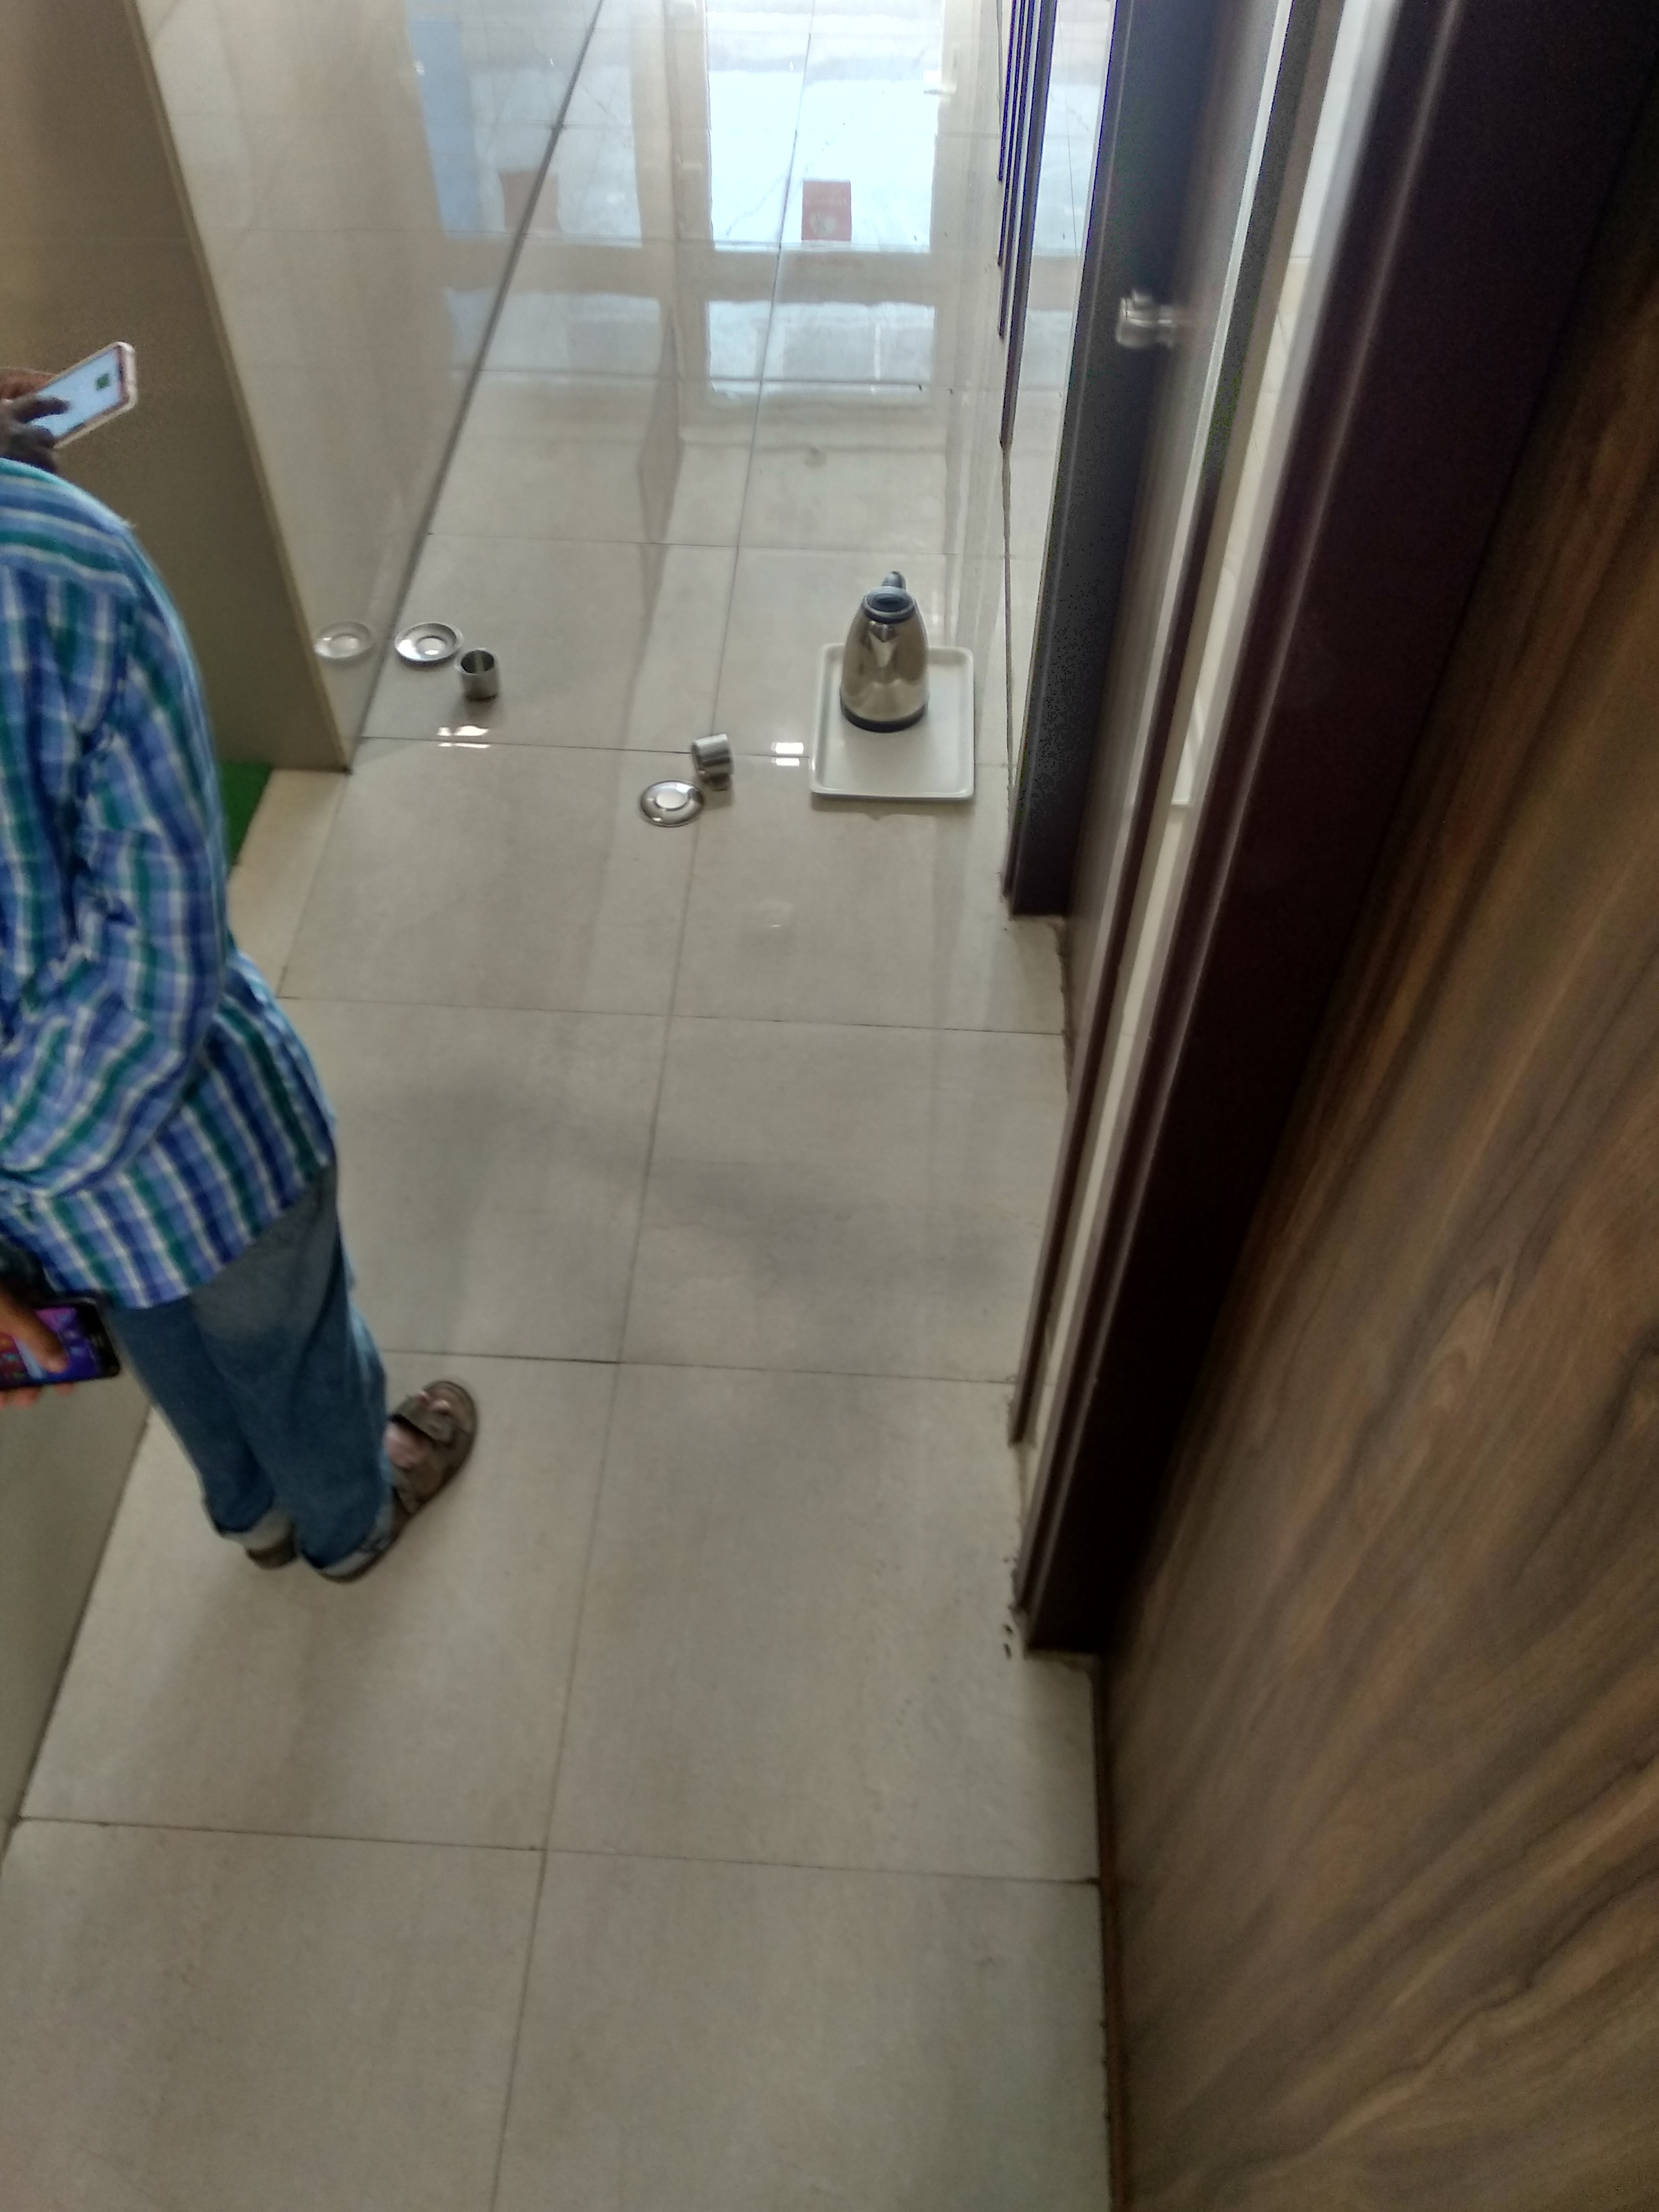CUP: (692, 730, 735, 786), (455, 655, 505, 698)
FLASK: (847, 582, 939, 726)
